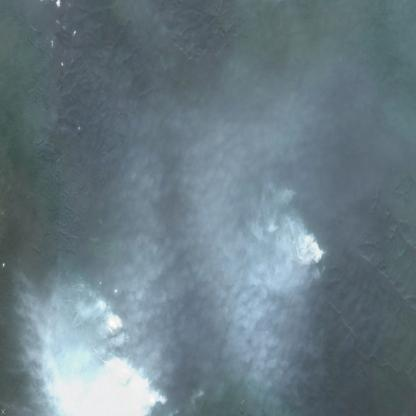fire: (79, 282, 171, 416), (310, 237, 332, 268)
